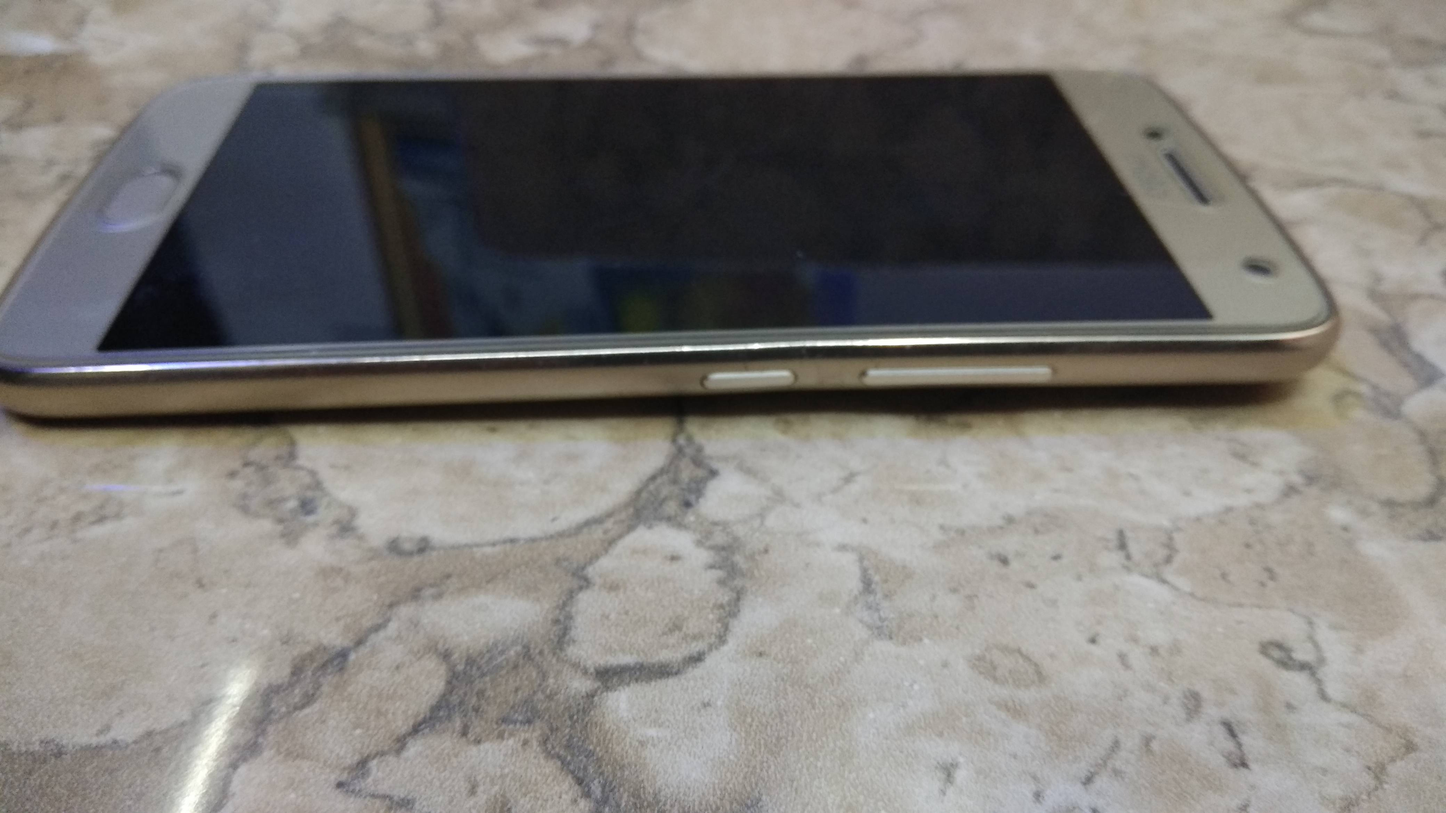Electronics: (4, 55, 1364, 454)
